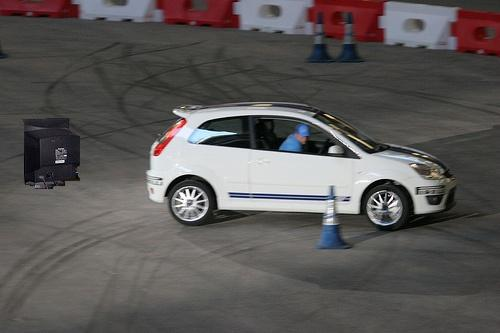tampered: (23, 119, 80, 189)
